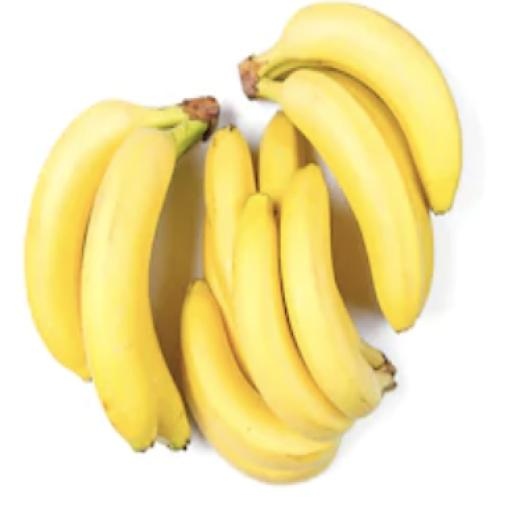banana: (24, 98, 217, 380), (239, 2, 461, 213), (81, 111, 217, 451), (259, 68, 424, 331), (181, 280, 339, 469), (234, 193, 353, 439), (280, 165, 395, 418), (324, 70, 434, 308), (184, 380, 337, 483), (204, 124, 255, 382), (256, 111, 308, 216), (258, 111, 307, 210), (202, 215, 234, 342)
